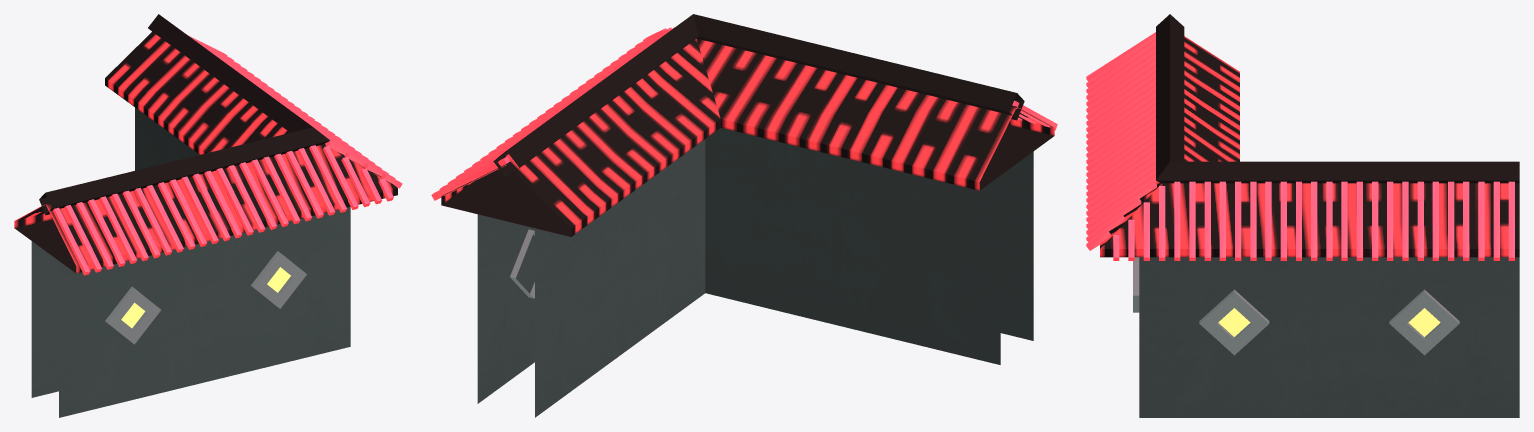
File: S1_Hei_Closs.fbx
The picture shows the model from 3 angles, left to right: view 1: azimuth 30°, elevation 25°; view 2: azimuth 150°, elevation 25°; view 3: azimuth 270°, elevation 25°; orthographic projection. The views are drawn at different scales.
Visible parts, largest first — view 1: Base, Kawara; view 2: Base, Kawara; view 3: Base, Kawara.
Boxes of the visible parts, left/top/right/bottom form: Base: left=14, top=14, right=397, bottom=417; Kawara: left=50, top=35, right=402, bottom=275; Base: left=441, top=14, right=1054, bottom=417; Kawara: left=431, top=27, right=1057, bottom=200; Base: left=1100, top=14, right=1519, bottom=417; Kawara: left=1086, top=32, right=1514, bottom=260.
Size of the model in its own units: 570 by 353 by 570.
